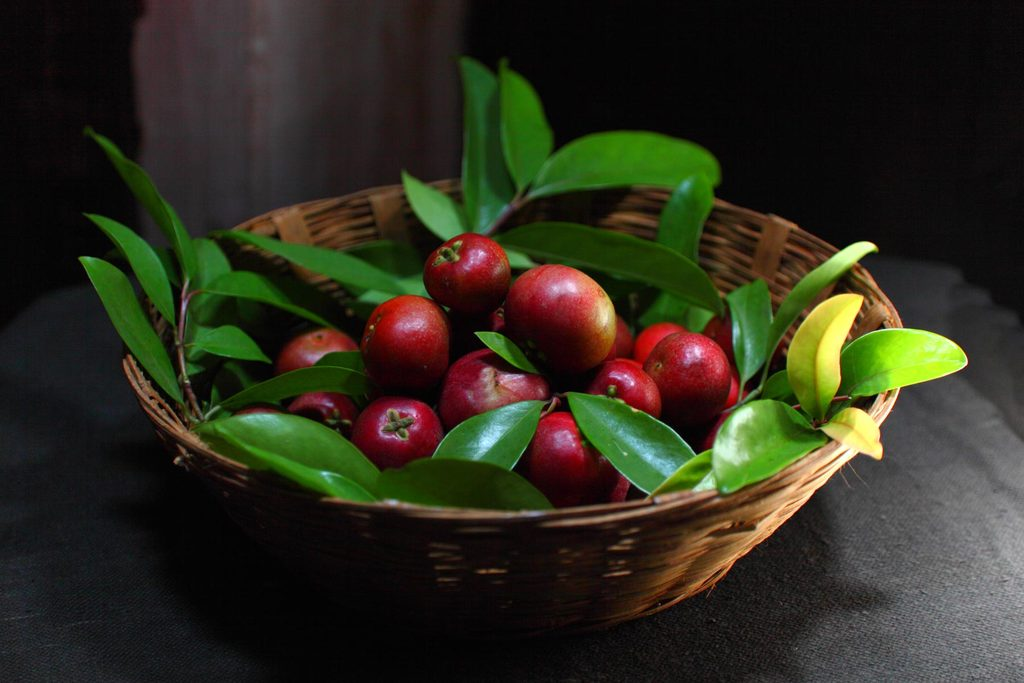Apple: (360, 296, 451, 392)
